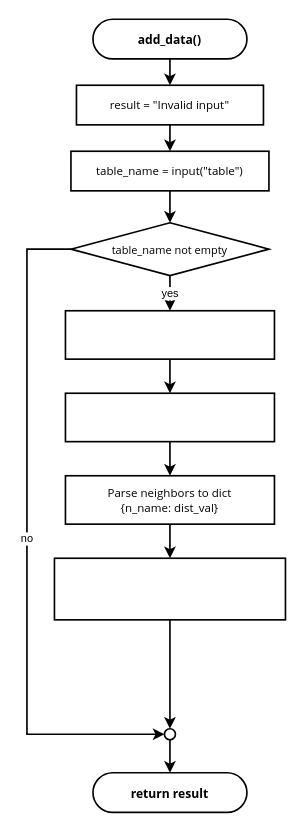
Some shapes in this 306 by 833 pixel diagram are drawn without their labels. Here are the shapes that lost their labels. From the top down, the box of each, then its label:
(64, 309, 275, 359): Input x, y coordinates Input sld heuristic
(64, 392, 275, 442): Input neighbors string e.g. "T2:4, T3:6"
(53, 557, 286, 620): graph[table_name] = {...} save_file(graph) result = "Add success"
